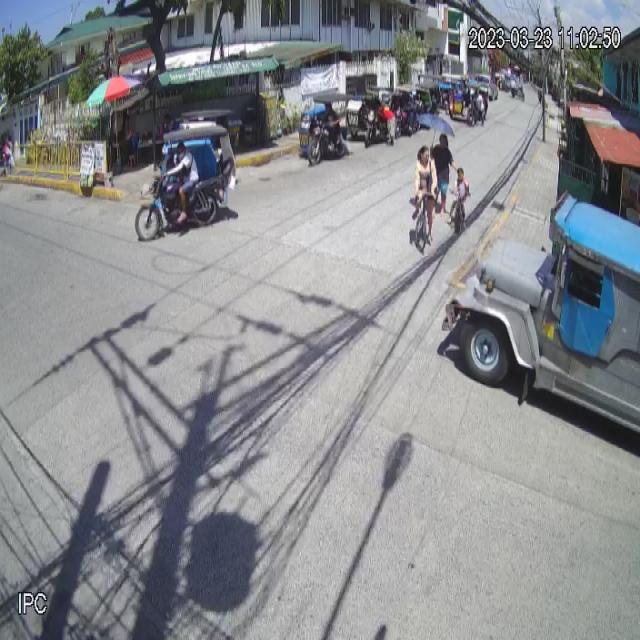Jeep: (441, 188, 640, 439)
Tricycle: (133, 124, 237, 243)
